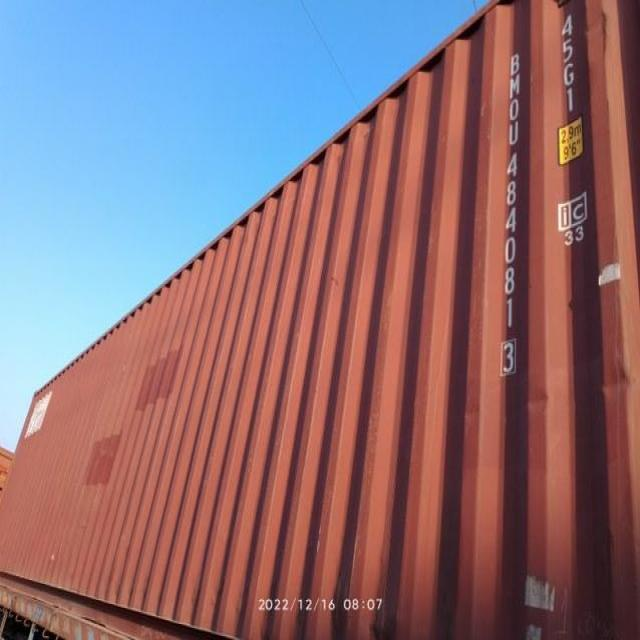Minor-Dent: (594, 354, 635, 404), (529, 383, 559, 418)
